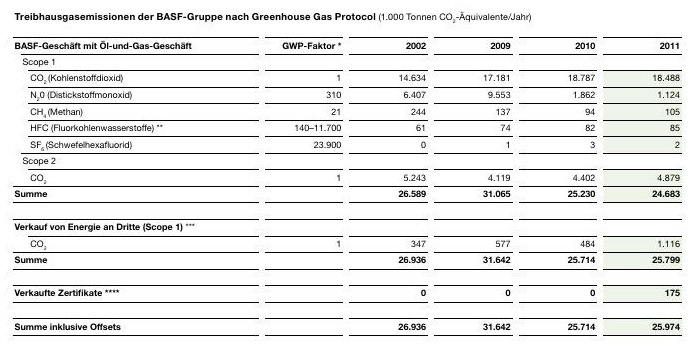table: (0, 0, 696, 347)
